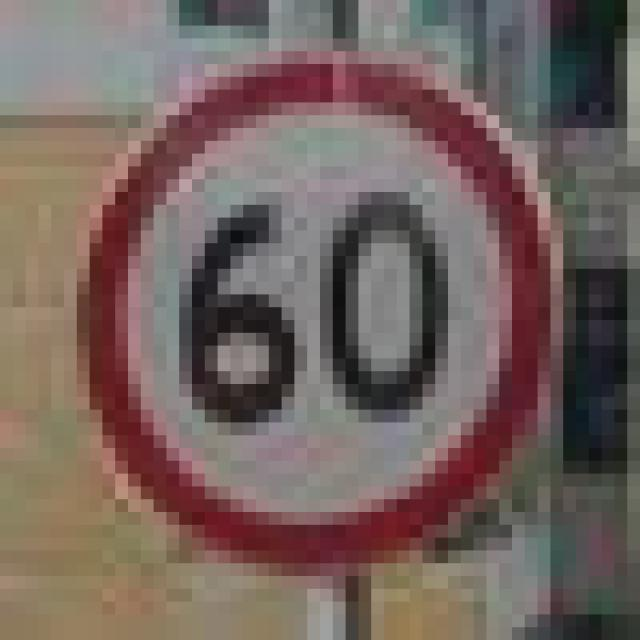SPEED_LIMIT_60: (64, 39, 550, 564)
